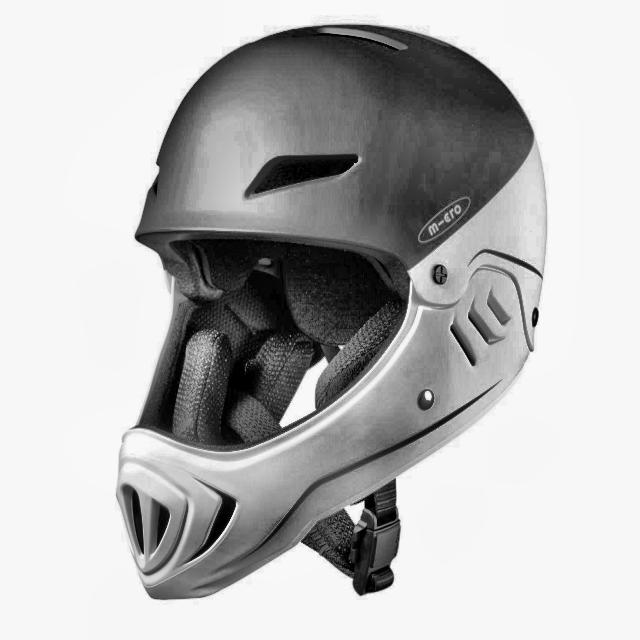Helmet: (73, 0, 563, 614)
